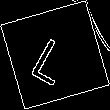L_NE: (29, 25, 81, 85)
